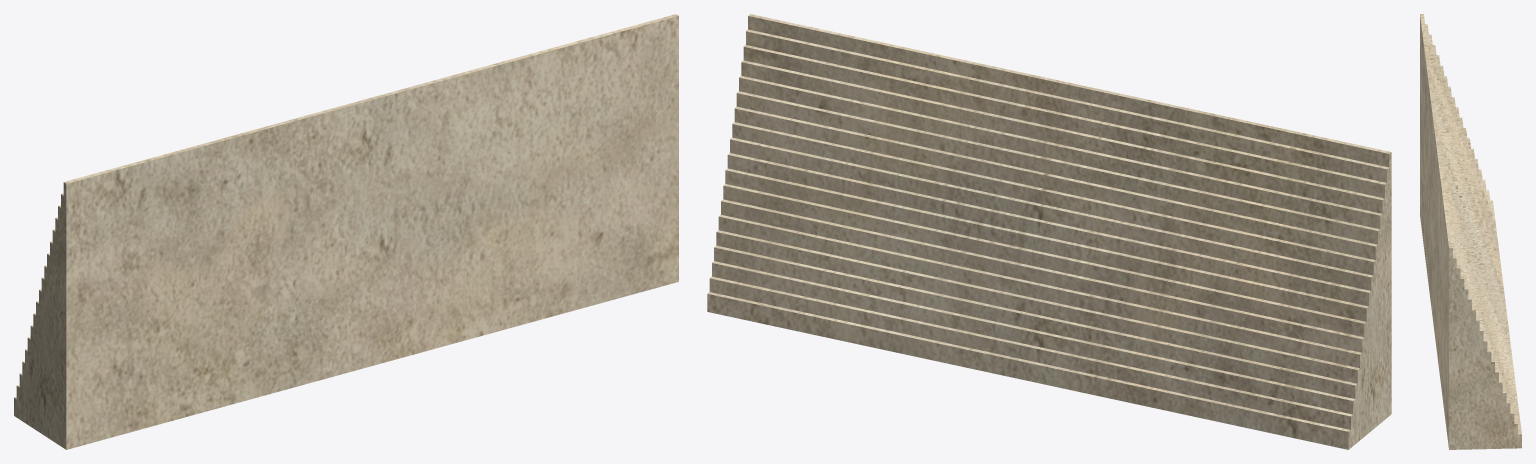
Rendered from concrete_33.fbx.
The picture shows the model from 3 angles, left to right: view 1: azimuth 30°, elevation 25°; view 2: azimuth 150°, elevation 25°; view 3: azimuth 270°, elevation 25°; orthographic projection. The views are drawn at different scales.
Parts seen in each view (by area): view 1: concrete_33; view 2: concrete_33; view 3: concrete_33.
Part boxes in pixels (x1,y1,x2,y2): concrete_33: [14, 14, 678, 449]; concrete_33: [707, 14, 1391, 449]; concrete_33: [1420, 14, 1521, 449].
Size of the model in its own units: 508 by 203 by 92.84.
